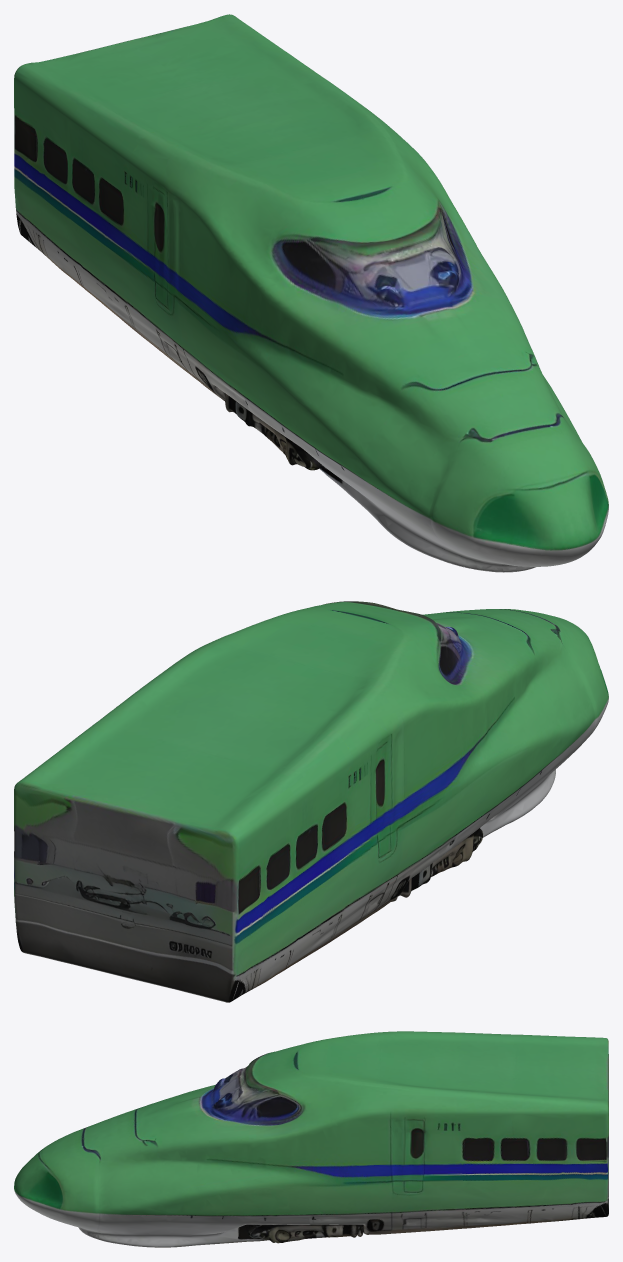
Rendered from H5_Shinkansen.glb.
3 views of the same model, one above another, from view 1: azimuth 30°, elevation 25°; view 2: azimuth 150°, elevation 25°; view 3: azimuth 270°, elevation 25° (orthographic). The views are drawn at different scales.
Parts seen in each view (by area): view 1: tripo_node_e5b4ba00-b4aa-4334-b827-ec5baf198ff9; view 2: tripo_node_e5b4ba00-b4aa-4334-b827-ec5baf198ff9; view 3: tripo_node_e5b4ba00-b4aa-4334-b827-ec5baf198ff9.
Boxes of the visible parts, box(x1,y1,x2,y2) form: tripo_node_e5b4ba00-b4aa-4334-b827-ec5baf198ff9: box(14, 14, 608, 572); tripo_node_e5b4ba00-b4aa-4334-b827-ec5baf198ff9: box(14, 601, 608, 1002); tripo_node_e5b4ba00-b4aa-4334-b827-ec5baf198ff9: box(14, 1031, 608, 1247).
Size of the model in its own units: 0.272 by 0.2973 by 0.9481.
Materials: 1 (1 with a texture image).
